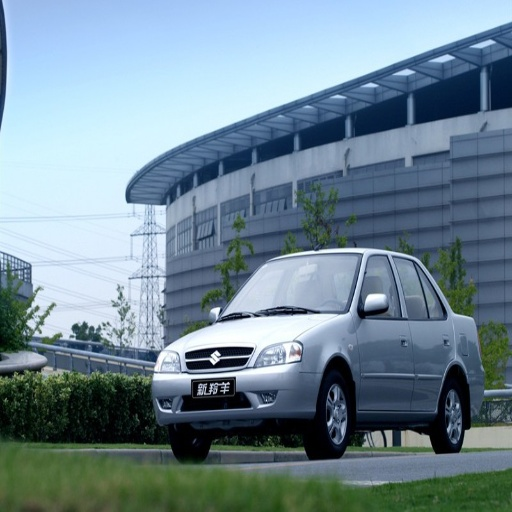front_bumper: (152, 341, 322, 427)
front_glass: (217, 256, 360, 319)
front_left_door: (355, 253, 414, 410)
